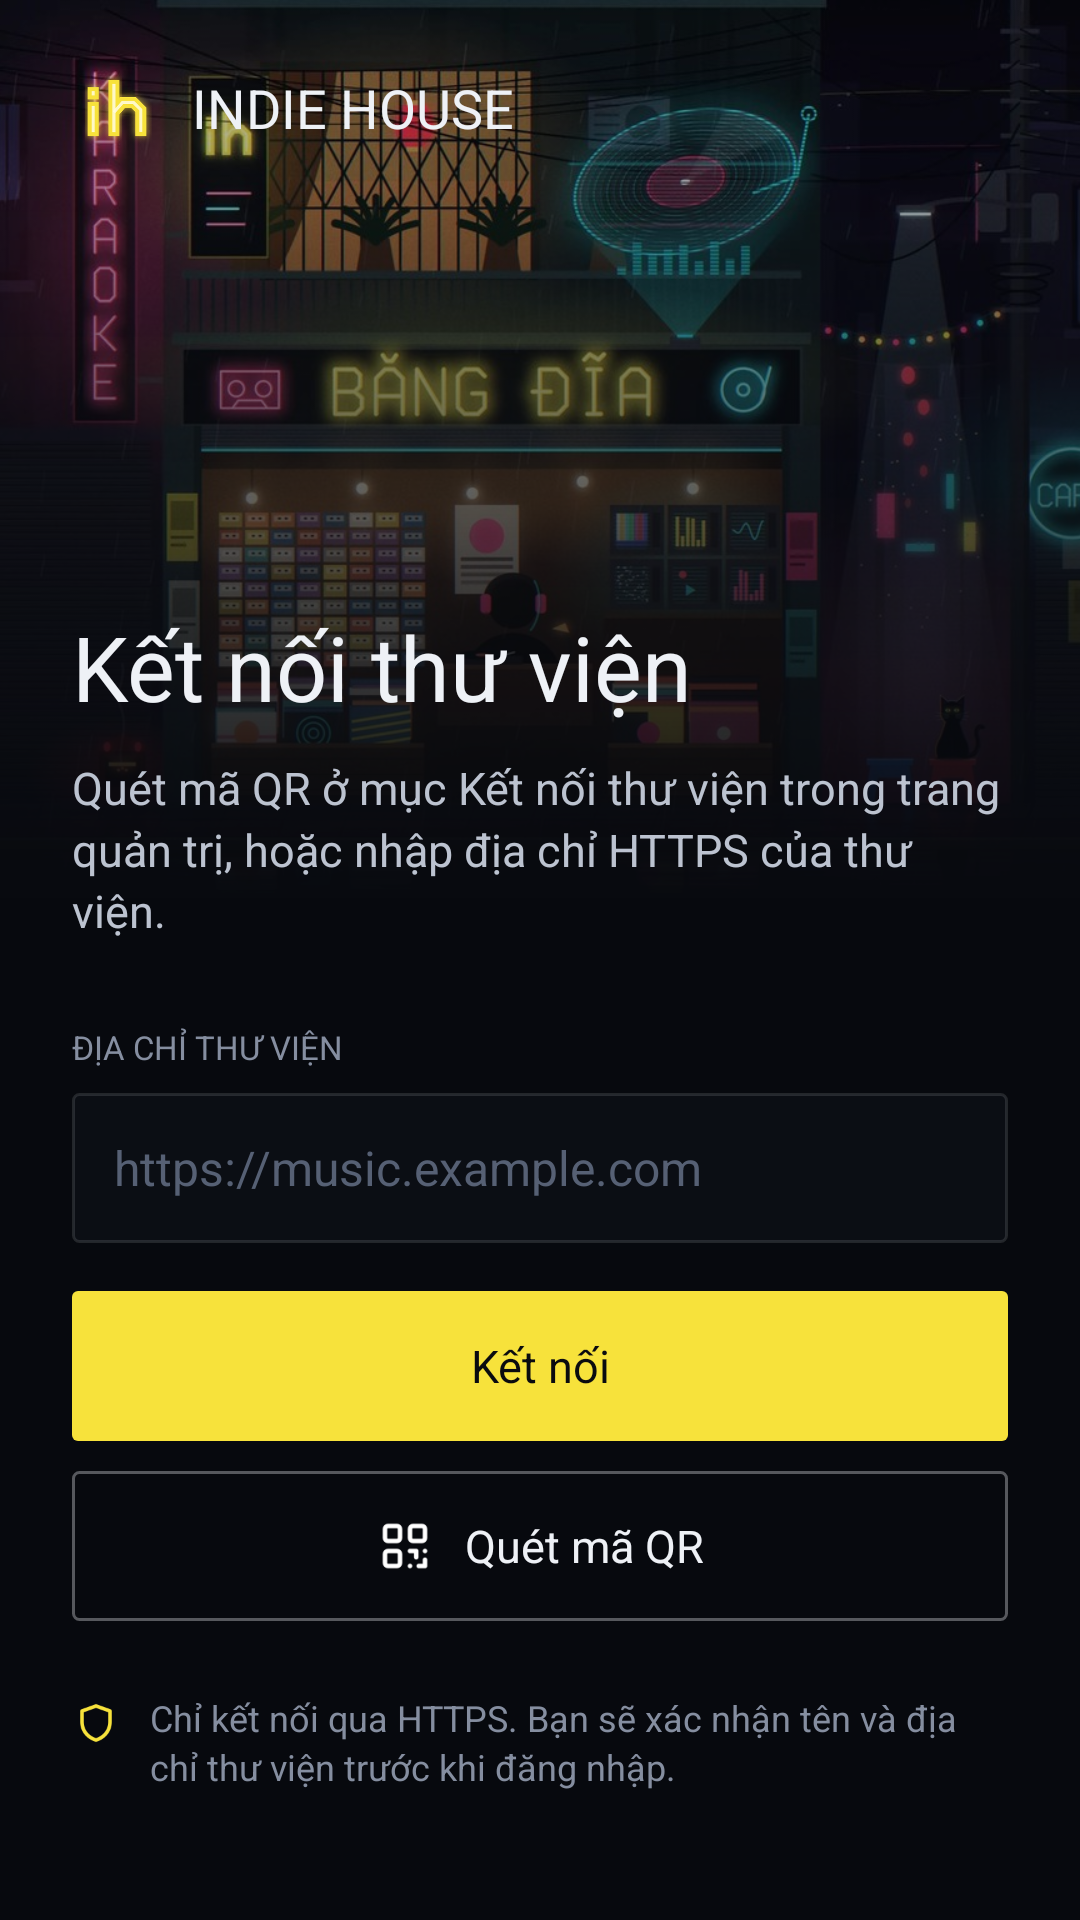

Named icons in this screenshot (1080 × 1920) and their bounding boxes, (x1, y1, x2, y2):
shield: (80, 1704, 112, 1742)
